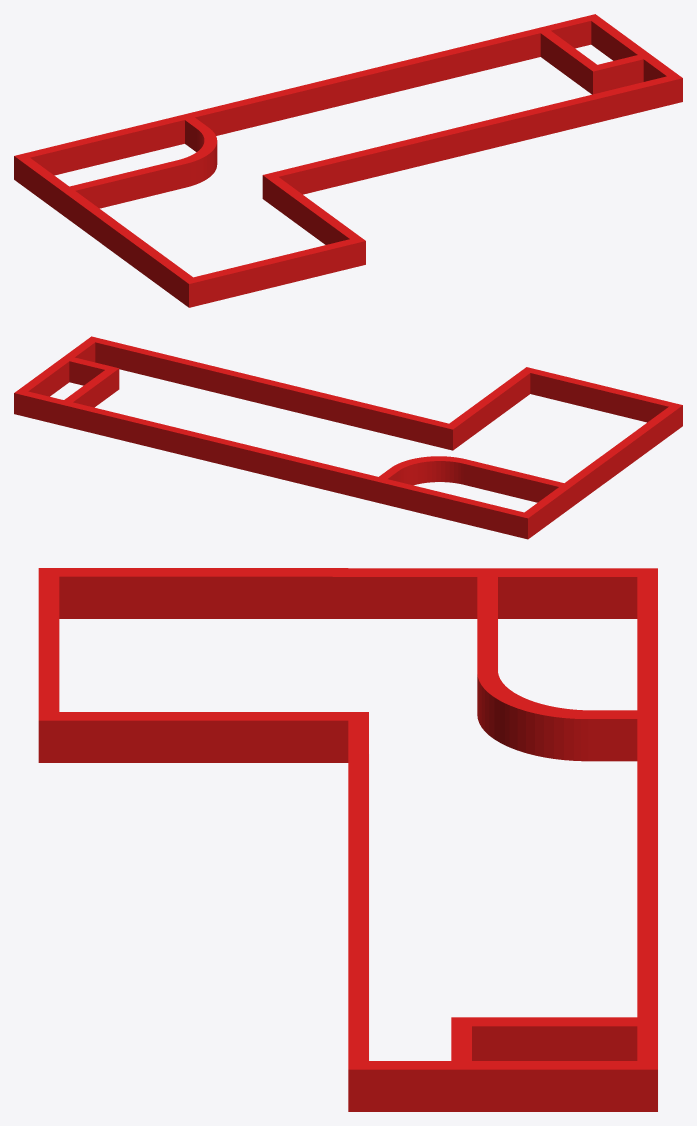
The model's file is Counter_8_Exhibition_No_Group_SKII_Top_Structure_11.FBX.
The picture shows the model from 3 angles, top to bottom: view 1: azimuth 30°, elevation 25°; view 2: azimuth 150°, elevation 25°; view 3: azimuth 270°, elevation 25°; orthographic projection. The views are drawn at different scales.
Parts seen in each view (by area): view 1: Counter_8_Exhibition_No_Group_SKII_Top_Structure_11; view 2: Counter_8_Exhibition_No_Group_SKII_Top_Structure_11; view 3: Counter_8_Exhibition_No_Group_SKII_Top_Structure_11.
Boxes of the visible parts, left/top/right/bottom form: Counter_8_Exhibition_No_Group_SKII_Top_Structure_11: left=14, top=14, right=682, bottom=307; Counter_8_Exhibition_No_Group_SKII_Top_Structure_11: left=14, top=336, right=682, bottom=539; Counter_8_Exhibition_No_Group_SKII_Top_Structure_11: left=38, top=568, right=658, bottom=1111.
Bounding box in the file's own units: 1150 × 45 × 600.
